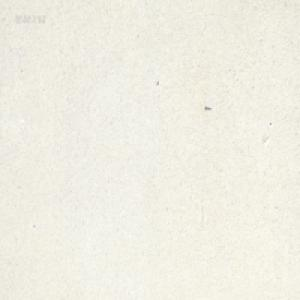Nail: (204, 105, 211, 110)
